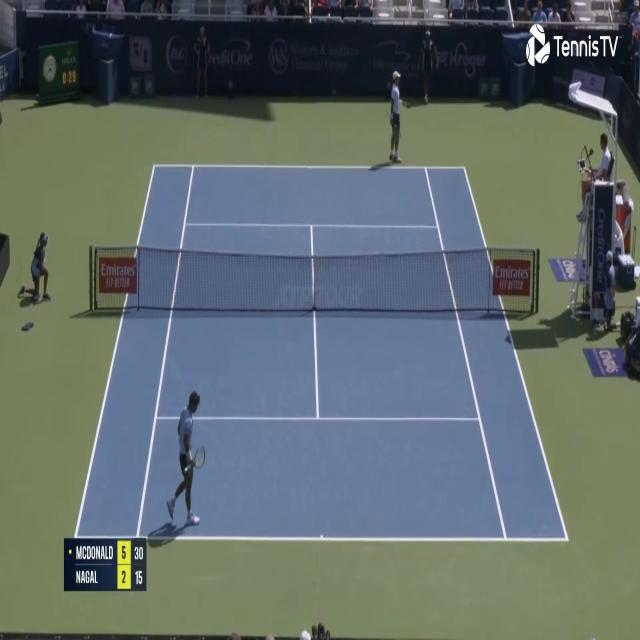tennis-player: (164, 385, 206, 534), (386, 67, 405, 166)
